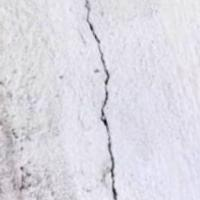crack: (75, 1, 143, 199)
